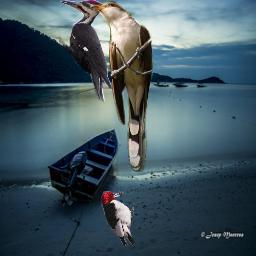Cuckoo: (90, 1, 154, 172)
Woodpecker: (59, 0, 113, 103), (101, 191, 136, 247)
